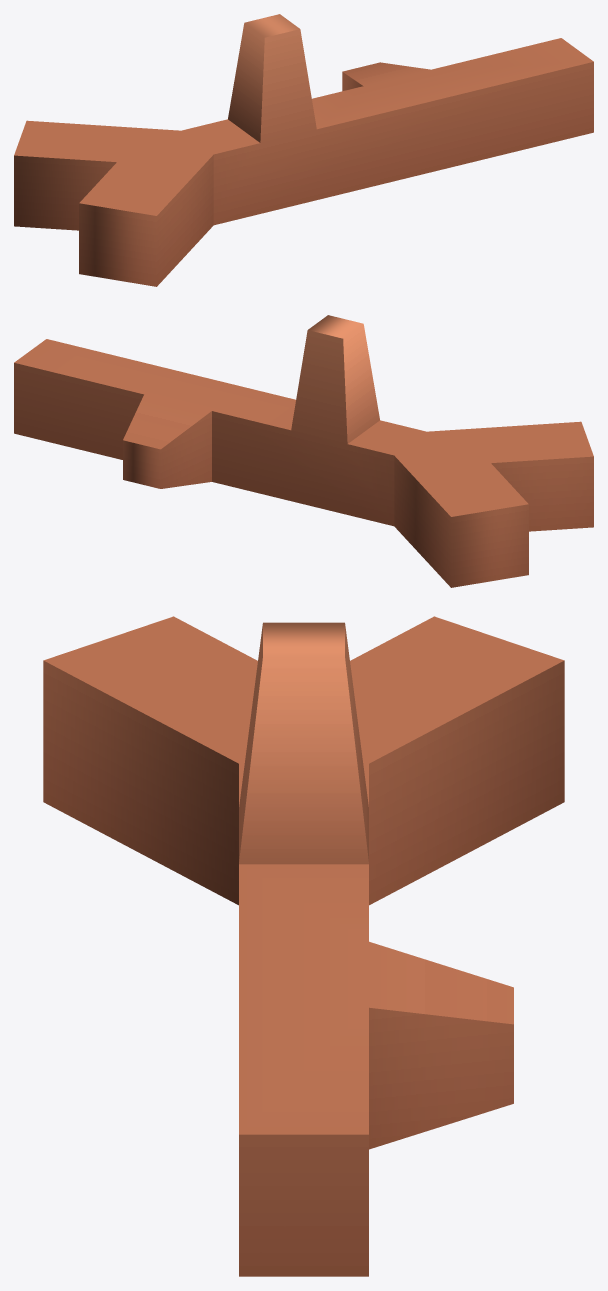
File: prop_firewood.glb
3 renders of one model, top to bottom at view 1: azimuth 30°, elevation 25°; view 2: azimuth 150°, elevation 25°; view 3: azimuth 270°, elevation 25°, orthographic. The views are drawn at different scales.
Visible parts, largest first — view 1: resource-wood; view 2: resource-wood; view 3: resource-wood.
Boxes of the visible parts, x1=… form: resource-wood: x1=14, y1=14, x2=593, y2=286; resource-wood: x1=14, y1=315, x2=593, y2=587; resource-wood: x1=43, y1=616, x2=564, y2=1276.
Bounding box in the file's own units: 0.205 × 0.0624 × 0.0871.
Materials: 1 (1 with a texture image).
